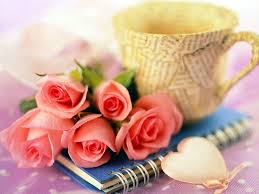lale: (7, 105, 72, 175), (117, 99, 185, 159), (28, 68, 90, 120), (64, 117, 120, 166), (89, 69, 133, 122)
